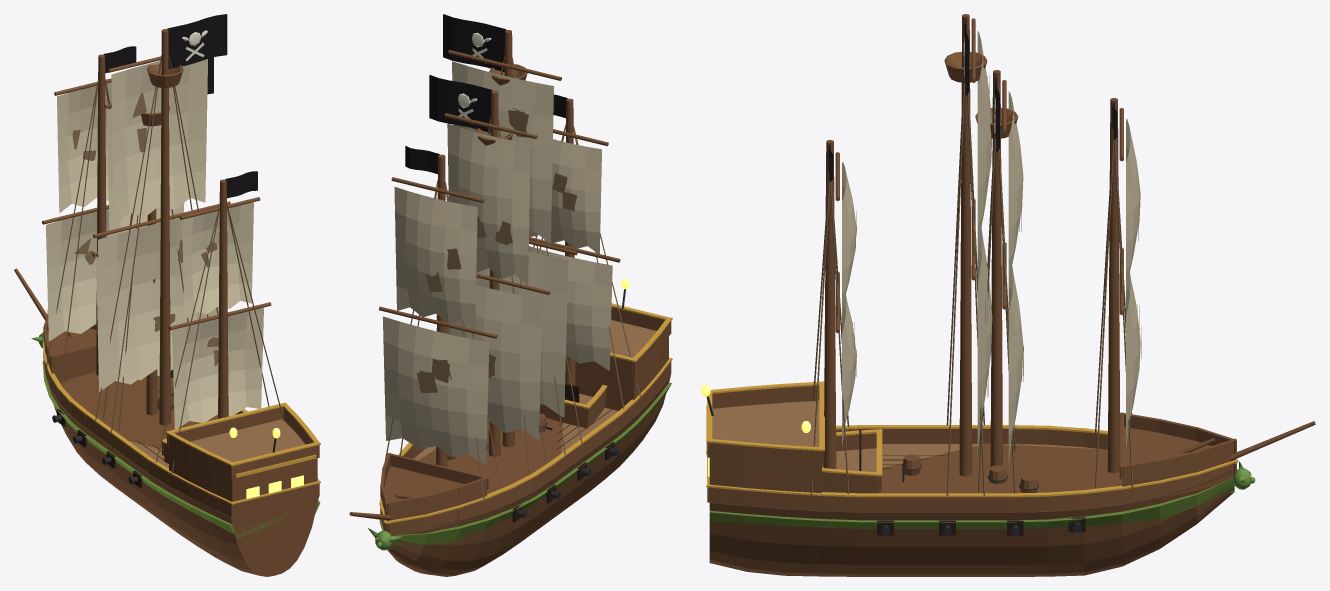
File: pirates.glb
3 renders of one model, left to right at view 1: azimuth 30°, elevation 25°; view 2: azimuth 150°, elevation 25°; view 3: azimuth 270°, elevation 25°, orthographic. The views are drawn at different scales.
Visible parts, largest first — view 1: Galleon, Sloop; view 2: Galleon, Sloop; view 3: Galleon, Sloop.
Boxes of the visible parts, x1=… form: Galleon: x1=14, y1=14, x2=320, y2=576; Sloop: x1=68, y1=57, x2=237, y2=463; Galleon: x1=349, y1=14, x2=672, y2=576; Sloop: x1=394, y1=75, x2=607, y2=498; Galleon: x1=701, y1=14, x2=1315, y2=576; Sloop: x1=801, y1=70, x2=1215, y2=493.
Size of the model in its own units: 6.04 by 19.85 by 19.9.
